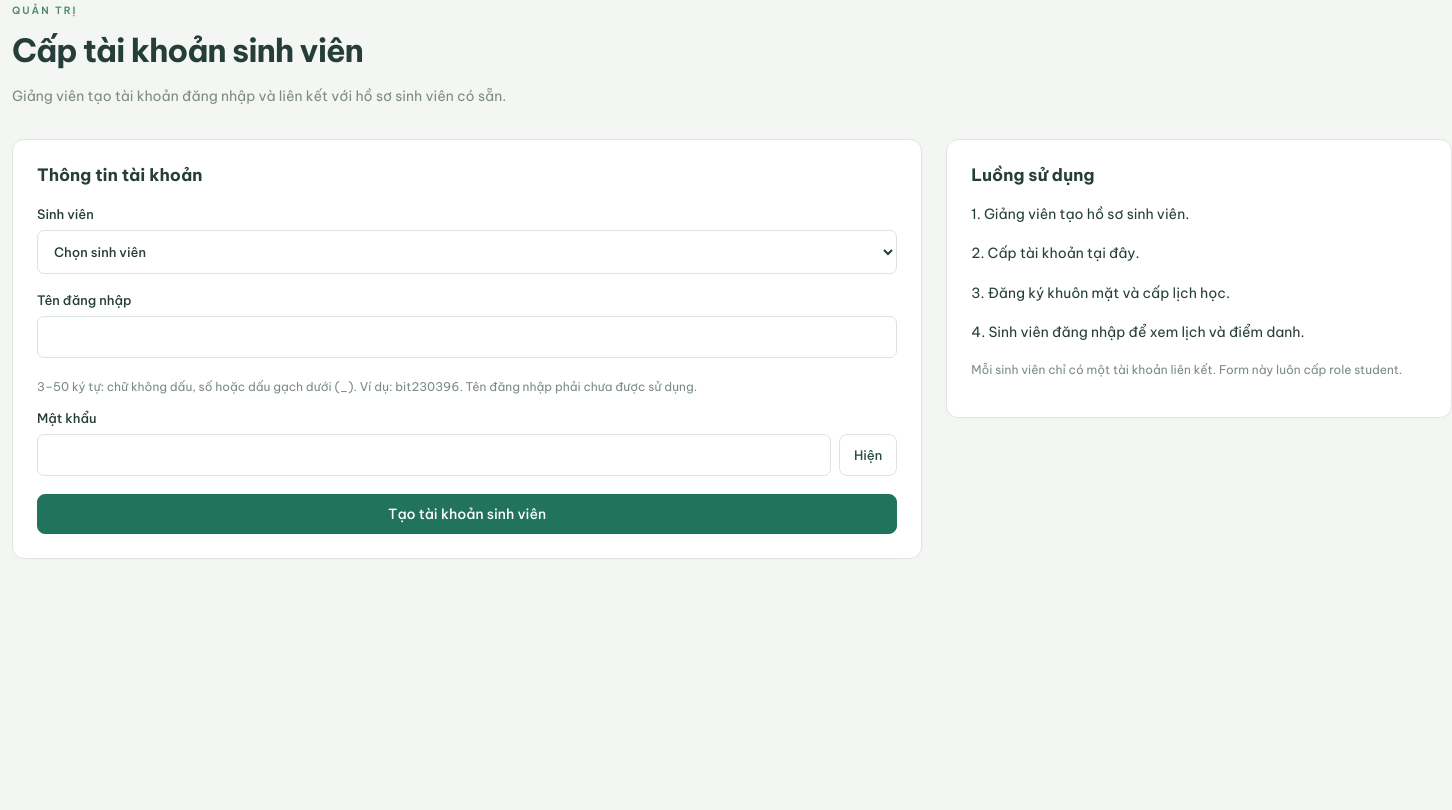
it: refreshes eligible students after creating an account
The width and height of the screenshot is (1452, 810).
Select "DEMO001 · Sinh viên Demo" in the dropdown labelled "Sinh viên" at (467, 252), box 37,230 -> 897,274
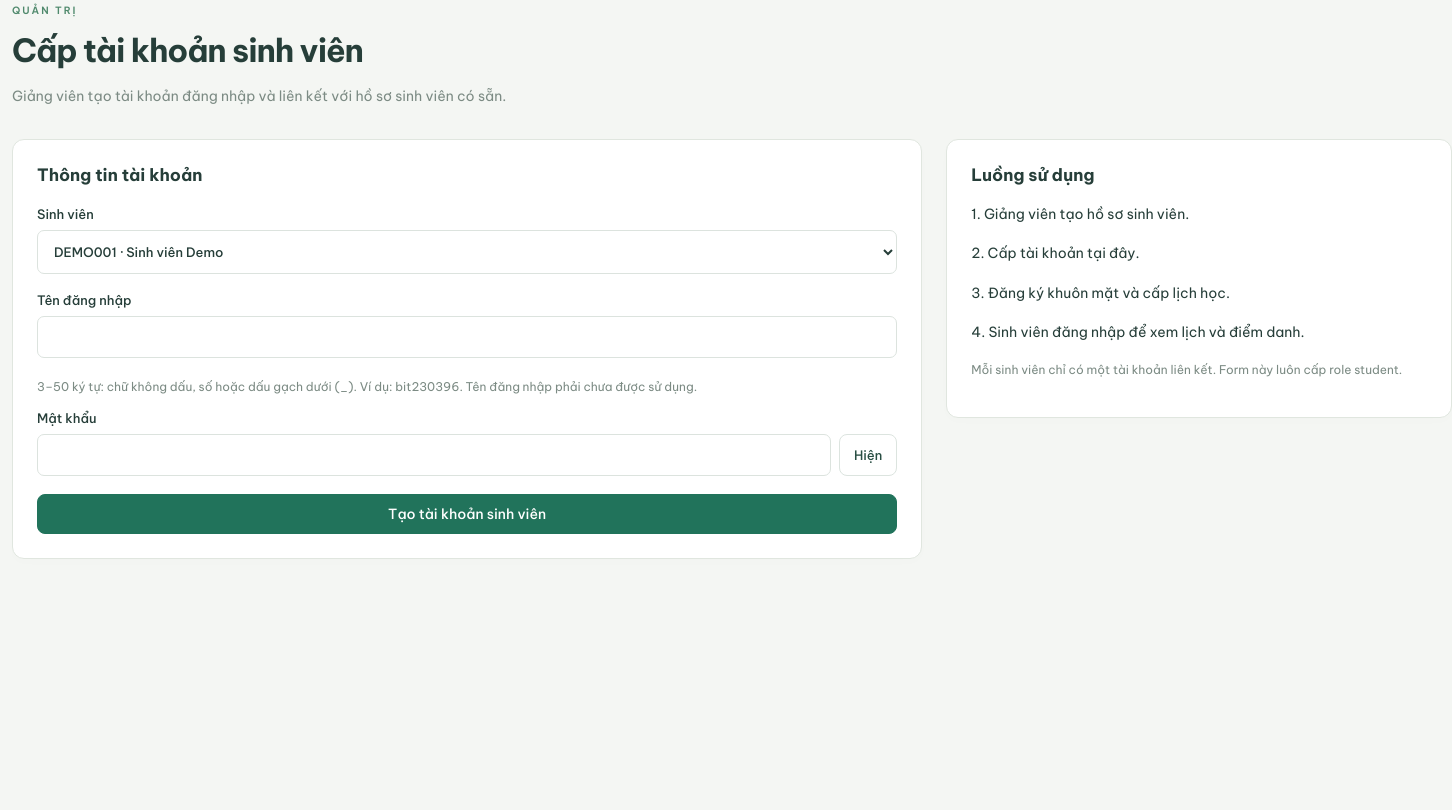
Type "demo_sv01" into the field labelled "Tên đăng nhập" at (467, 337), box 37,316 -> 897,358
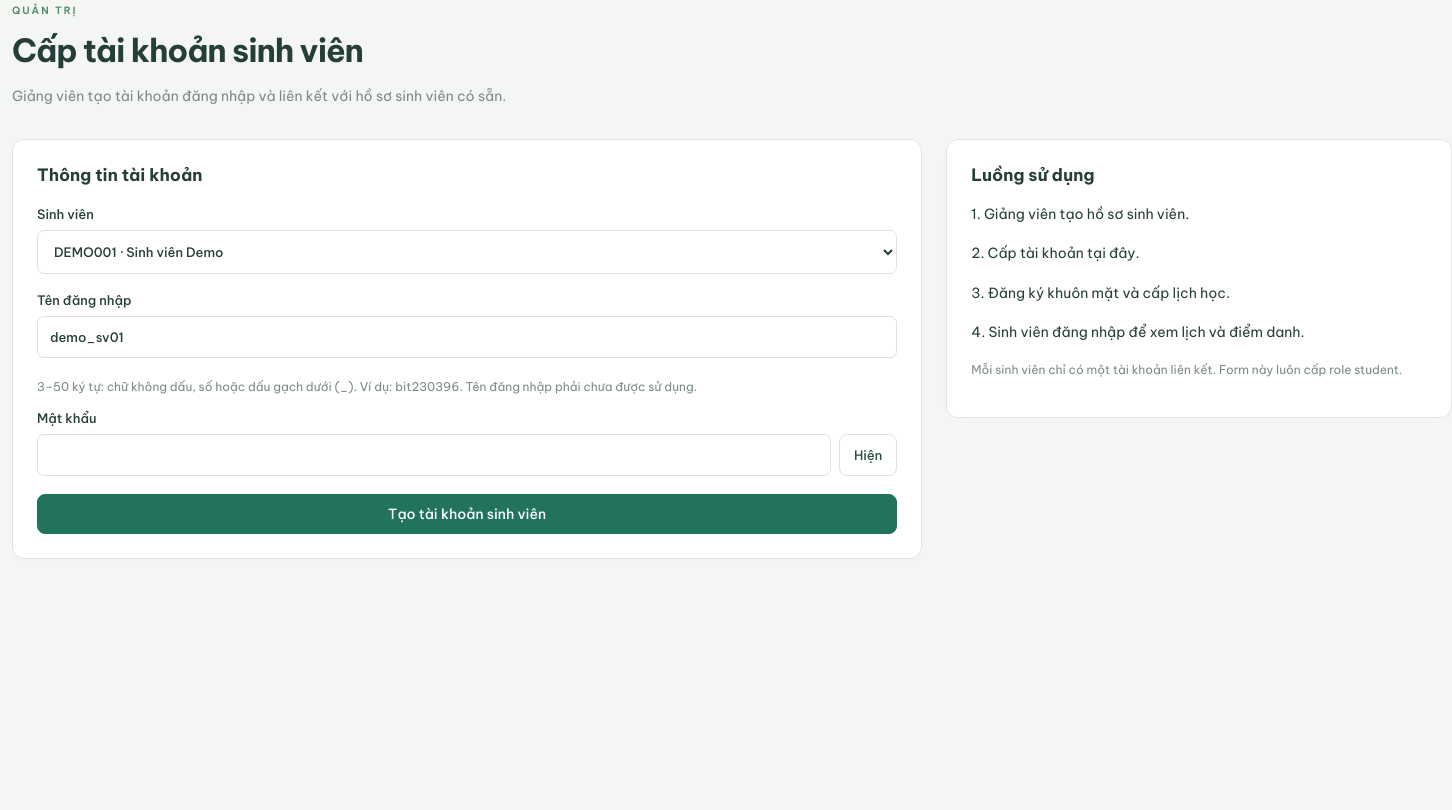
Type "DemoTest@123" into the password field named "password" at (434, 455), box 37,434 -> 831,476
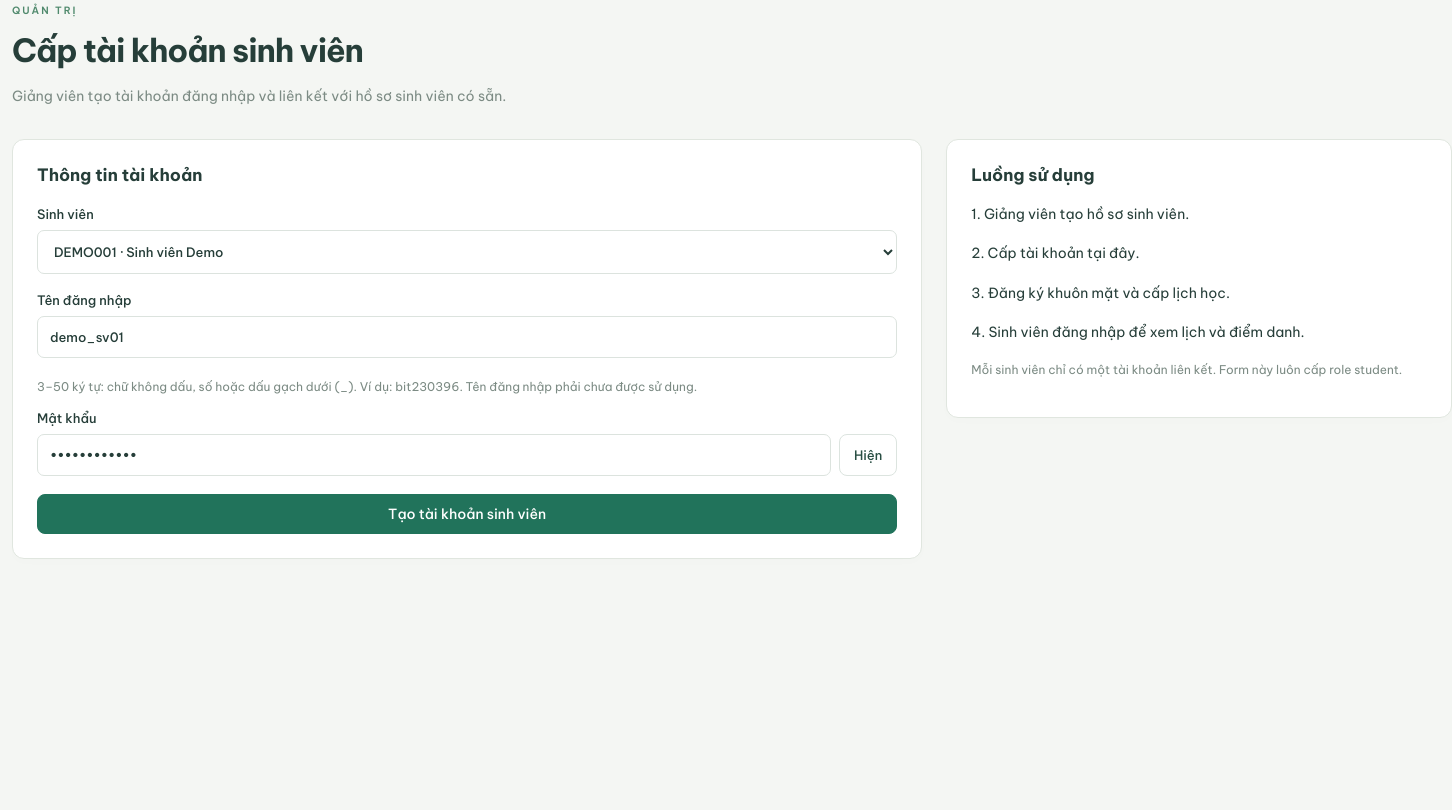
Submit the form named "Tạo tài khoản sinh viên", box 37,206 -> 897,534
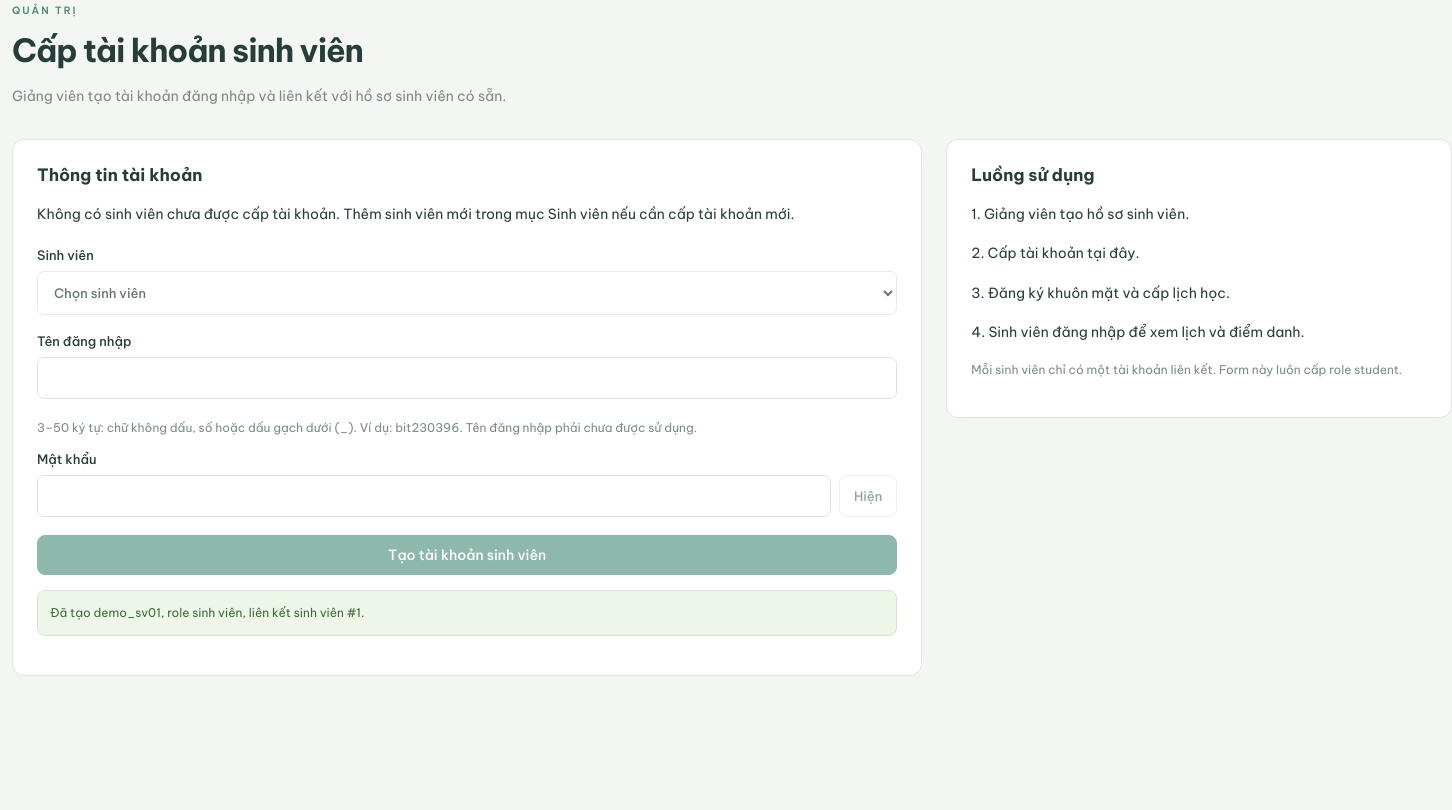
Expected: the option "DEMO001" is not shown
Expected: the text "Không có sinh viên chưa được cấp tài khoản" is shown, 37,205 -> 794,223
